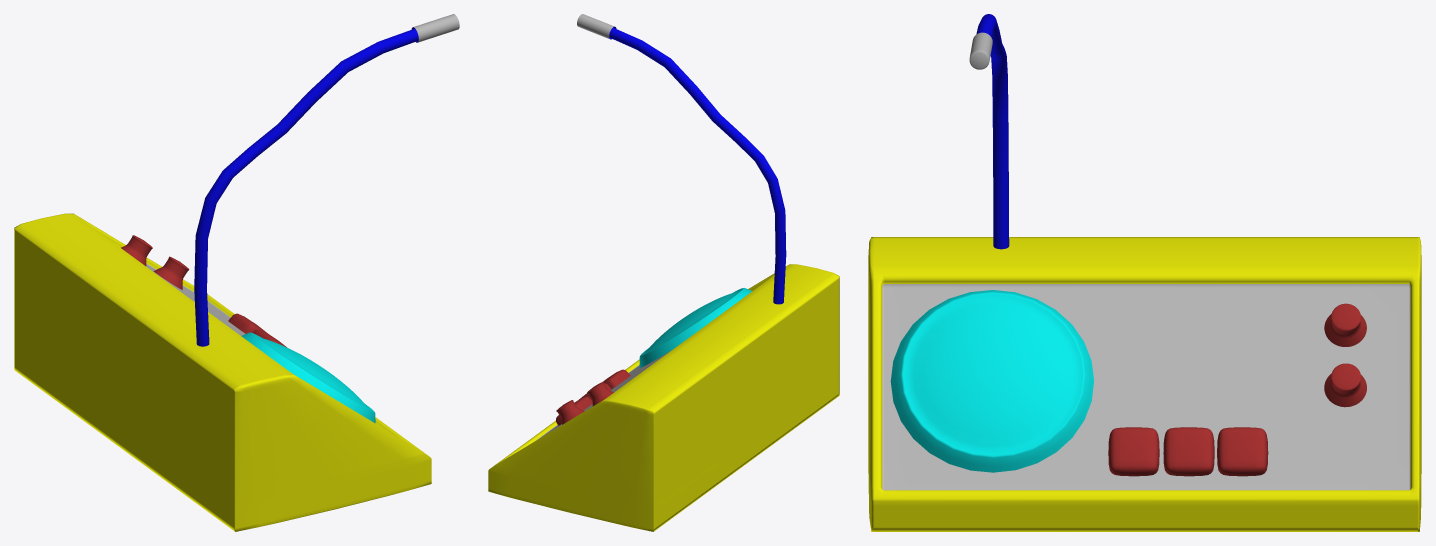
File: speaker.fbx
3 views of the same model, side by side, from view 1: azimuth 30°, elevation 25°; view 2: azimuth 150°, elevation 25°; view 3: azimuth 270°, elevation 25° (orthographic). The views are drawn at different scales.
Parts seen in each view (by area): view 1: sweep1; view 2: sweep1; view 3: sweep1.
Boxes of the visible parts, x1=… form: sweep1: x1=14, y1=14, x2=459, y2=531; sweep1: x1=488, y1=14, x2=839, y2=531; sweep1: x1=868, y1=14, x2=1421, y2=531.
Size of the model in its own units: 22.06 by 33.5 by 32.07.
